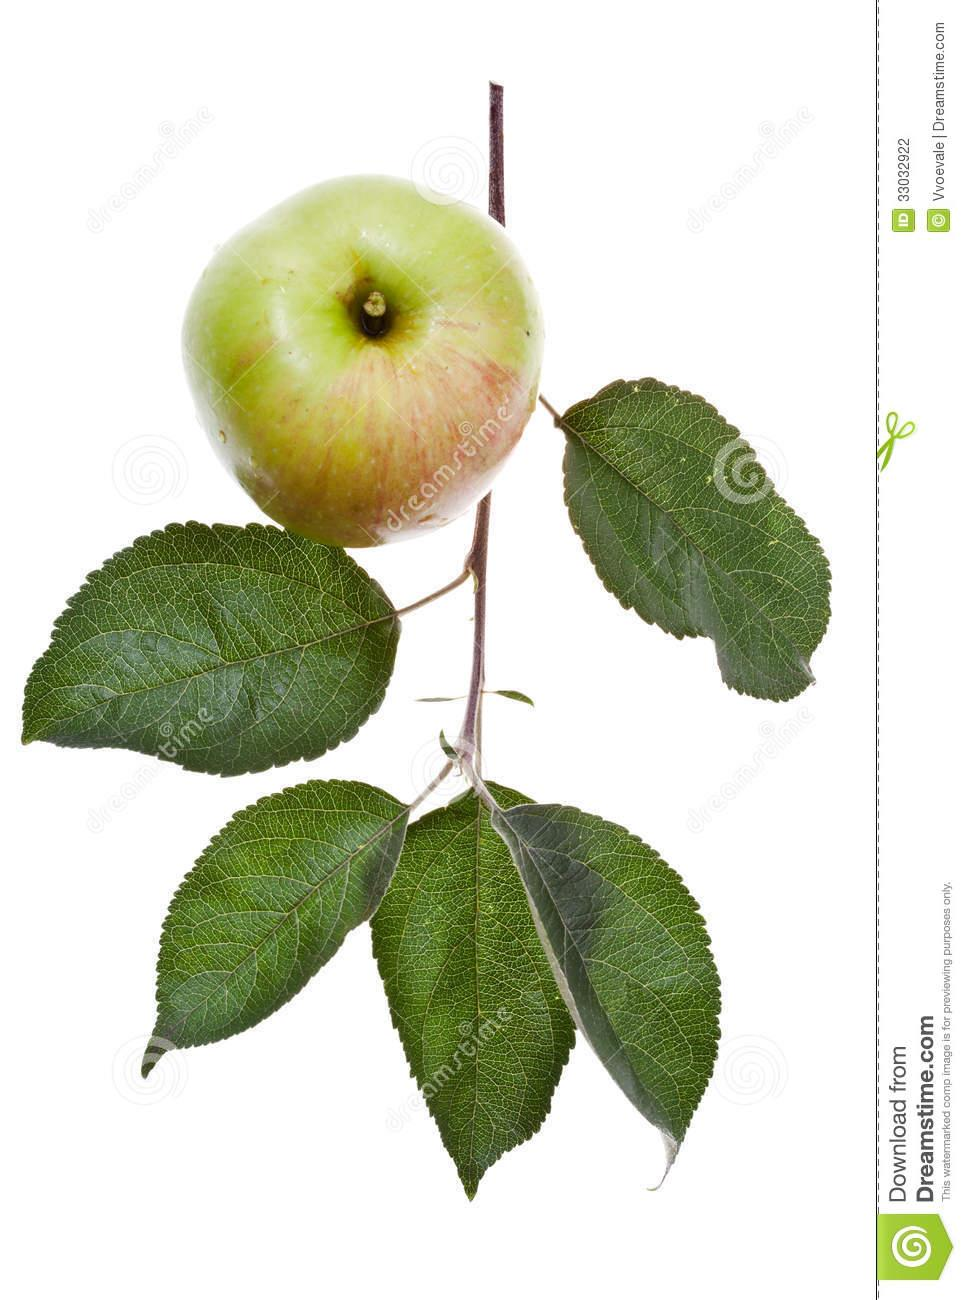Apple leaf: (483, 779, 775, 1198), (550, 372, 844, 739), (13, 509, 413, 770), (397, 766, 598, 1232), (124, 778, 420, 1080)
